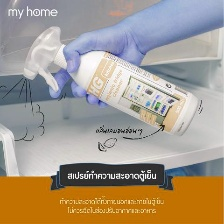cleaning_solution: (20, 23, 202, 140)
